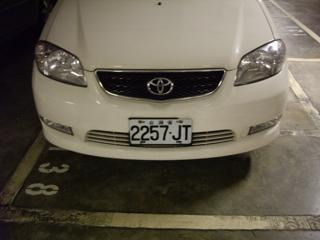plate: (127, 117, 196, 148)
